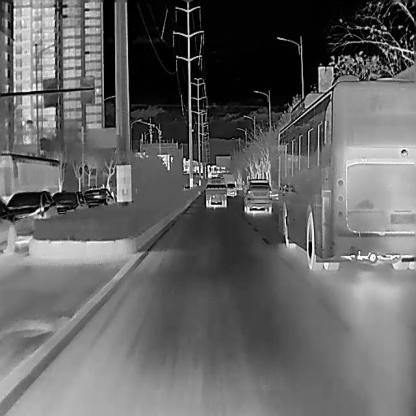bus: (269, 74, 415, 270), (0, 152, 60, 201)
car: (4, 189, 58, 247), (51, 189, 88, 214), (243, 179, 271, 212), (82, 187, 115, 206), (226, 183, 236, 195)
truck: (206, 176, 226, 206)
